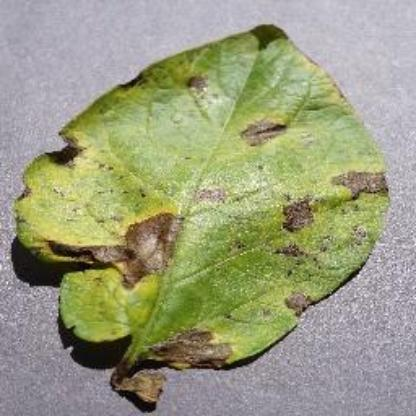Early-Blight: (12, 16, 390, 406)
